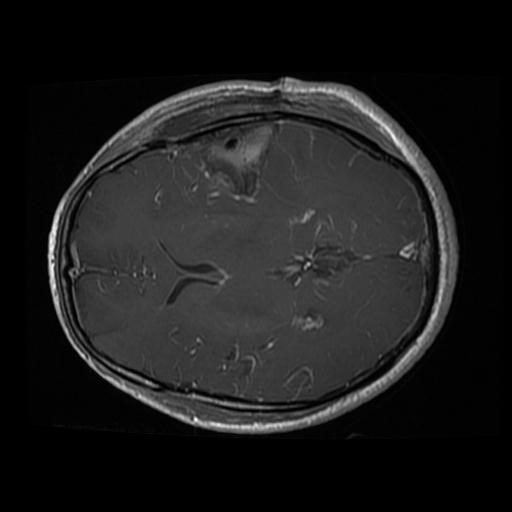glioma: (168, 121, 277, 206)
